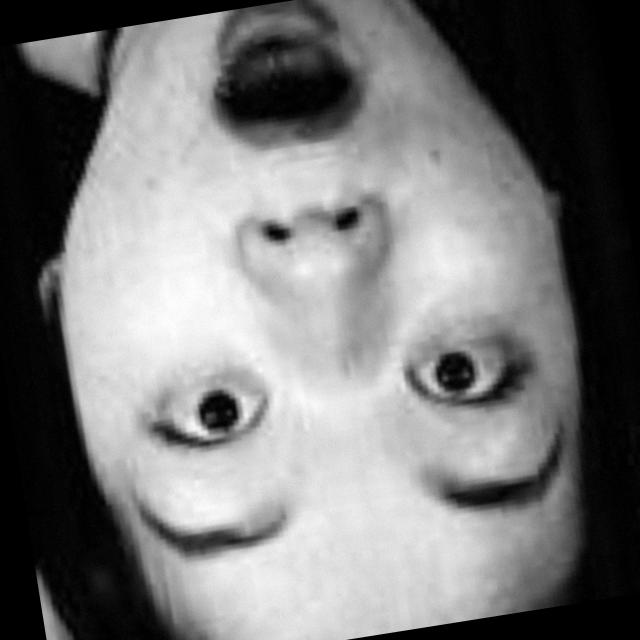surprise: (37, 0, 627, 640)
